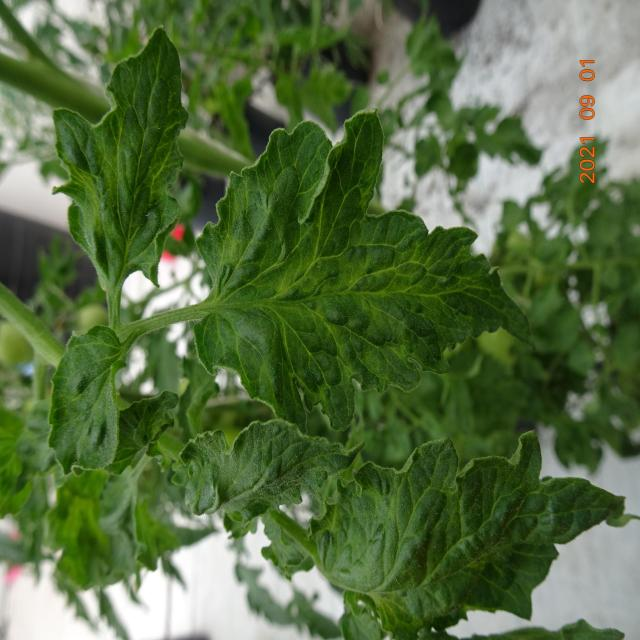T_L_R: (195, 113, 531, 429), (311, 433, 625, 639), (55, 29, 189, 329), (181, 421, 361, 524), (50, 328, 125, 474)
